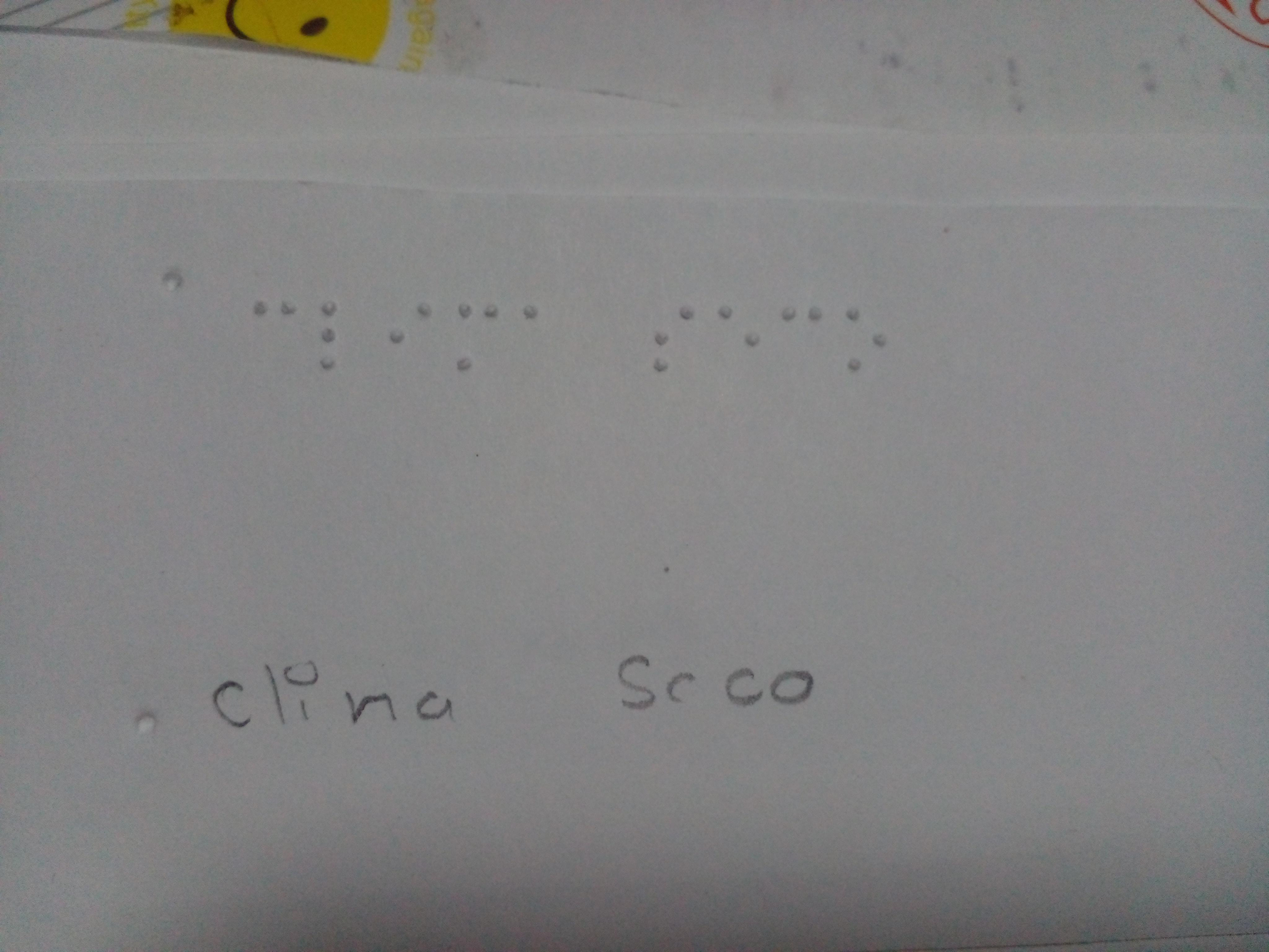a: (505, 291, 556, 336)
c: (242, 282, 305, 338), (778, 290, 829, 353)
e: (709, 293, 762, 363)
i: (383, 290, 440, 375)
l: (301, 301, 359, 386)
m: (448, 296, 505, 383)
o: (832, 282, 905, 389)
s: (637, 298, 706, 386)
